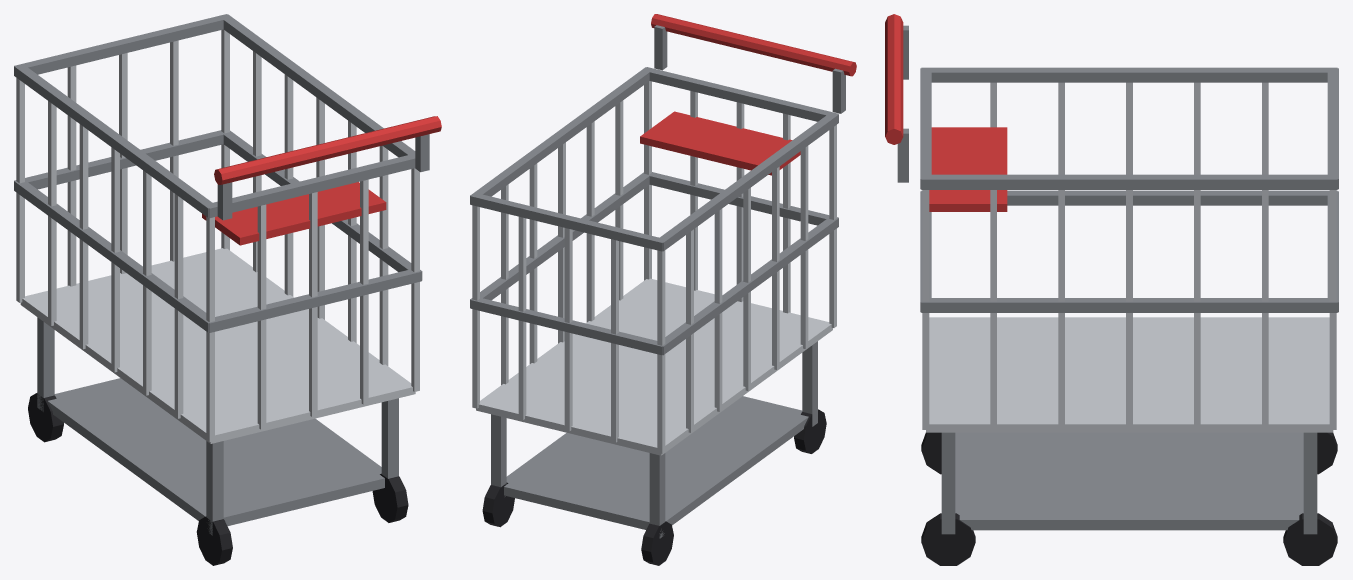
The model's file is shopping_cart.glb.
The picture shows the model from 3 angles, left to right: view 1: azimuth 30°, elevation 25°; view 2: azimuth 150°, elevation 25°; view 3: azimuth 270°, elevation 25°; orthographic projection. The views are drawn at different scales.
Parts seen in each view (by area): view 1: bar_cart_wire, floor_cart_wire, rail_cart_frame, base_bar_cart_frame, seat_cart_red, leg_cart_frame, handle_cart_red, wheel_cart_wheel, handle_post_cart_frame; view 2: bar_cart_wire, floor_cart_wire, rail_cart_frame, base_bar_cart_frame, seat_cart_red, leg_cart_frame, handle_cart_red, wheel_cart_wheel, handle_post_cart_frame; view 3: floor_cart_wire, base_bar_cart_frame, rail_cart_frame, bar_cart_wire, wheel_cart_wheel, seat_cart_red, leg_cart_frame, handle_cart_red, handle_post_cart_frame.
Boxes of the visible parts, x1,y1,x2,y2 form: bar_cart_wire: [16, 29, 419, 441]; floor_cart_wire: [20, 248, 415, 443]; rail_cart_frame: [14, 14, 422, 332]; base_bar_cart_frame: [47, 378, 384, 526]; seat_cart_red: [202, 182, 386, 245]; leg_cart_frame: [37, 317, 398, 535]; handle_cart_red: [214, 116, 441, 184]; wheel_cart_wheel: [28, 393, 408, 565]; handle_post_cart_frame: [217, 134, 429, 220]; bar_cart_wire: [472, 81, 836, 453]; floor_cart_wire: [476, 278, 832, 455]; rail_cart_frame: [470, 67, 838, 355]; base_bar_cart_frame: [504, 396, 808, 529]; seat_cart_red: [640, 111, 800, 175]; leg_cart_frame: [491, 341, 817, 538]; handle_cart_red: [651, 14, 856, 76]; wheel_cart_wheel: [482, 409, 826, 565]; handle_post_cart_frame: [654, 25, 845, 113]; floor_cart_wire: [926, 317, 1333, 432]; base_bar_cart_frame: [955, 432, 1303, 530]; rail_cart_frame: [920, 67, 1338, 312]; bar_cart_wire: [922, 82, 1336, 429]; wheel_cart_wheel: [921, 432, 1337, 565]; seat_cart_red: [929, 127, 1007, 211]; leg_cart_frame: [941, 432, 1317, 534]; handle_cart_red: [885, 14, 903, 144]; handle_post_cart_frame: [897, 25, 908, 182].
Bounding box in the file's own units: 0.6 × 1.09 × 1.
